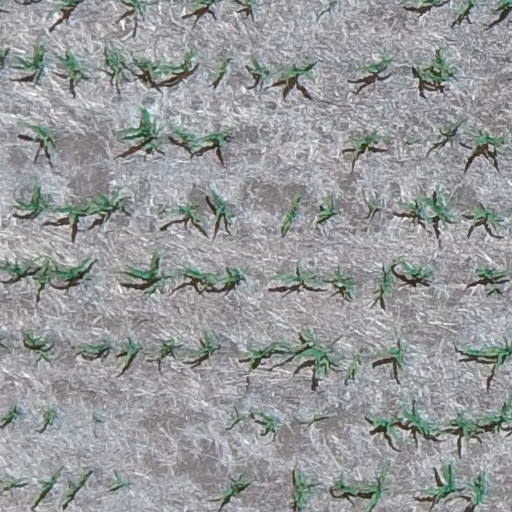planta: (277, 325, 337, 380), (30, 254, 90, 292), (120, 250, 167, 294), (398, 404, 454, 440), (241, 338, 292, 372), (119, 106, 159, 147), (420, 463, 459, 502), (170, 126, 229, 151), (273, 59, 314, 94), (372, 255, 400, 306), (50, 202, 98, 231), (176, 265, 227, 290), (289, 467, 317, 510), (446, 413, 486, 442), (55, 49, 90, 82), (466, 131, 507, 159), (398, 193, 434, 224), (272, 269, 330, 288), (345, 130, 389, 155), (425, 188, 453, 226), (214, 474, 248, 505), (277, 192, 302, 234), (59, 469, 89, 503), (158, 48, 197, 74), (130, 55, 176, 77), (427, 47, 455, 83), (30, 471, 58, 506), (320, 269, 355, 297), (102, 46, 127, 85), (397, 255, 434, 281), (368, 413, 400, 443), (85, 189, 119, 216), (187, 328, 215, 360), (356, 54, 393, 78), (469, 204, 503, 230), (209, 189, 234, 222), (465, 473, 489, 507), (115, 338, 140, 370), (331, 477, 372, 496), (312, 197, 337, 226), (376, 345, 405, 370), (214, 265, 244, 287), (414, 63, 442, 86), (175, 201, 200, 226), (75, 338, 109, 356), (209, 54, 229, 84), (343, 350, 362, 380), (474, 265, 508, 280), (437, 120, 459, 143), (153, 338, 178, 358), (257, 410, 279, 432), (247, 55, 267, 78), (39, 407, 57, 426), (139, 137, 159, 153), (110, 474, 127, 490), (230, 412, 242, 424), (367, 199, 377, 213)
